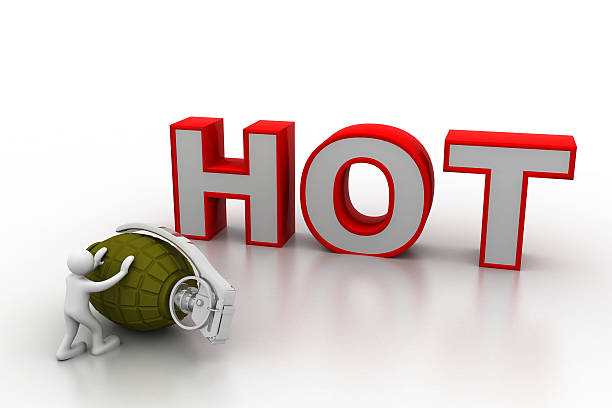e1: (81, 221, 230, 346)
